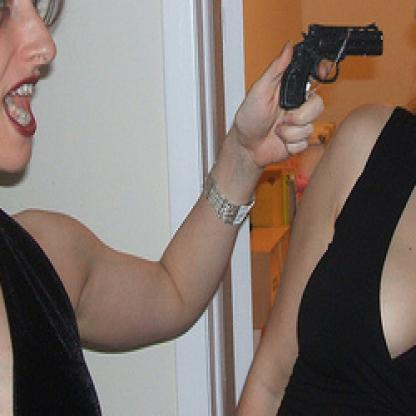gun: (273, 16, 388, 126)
